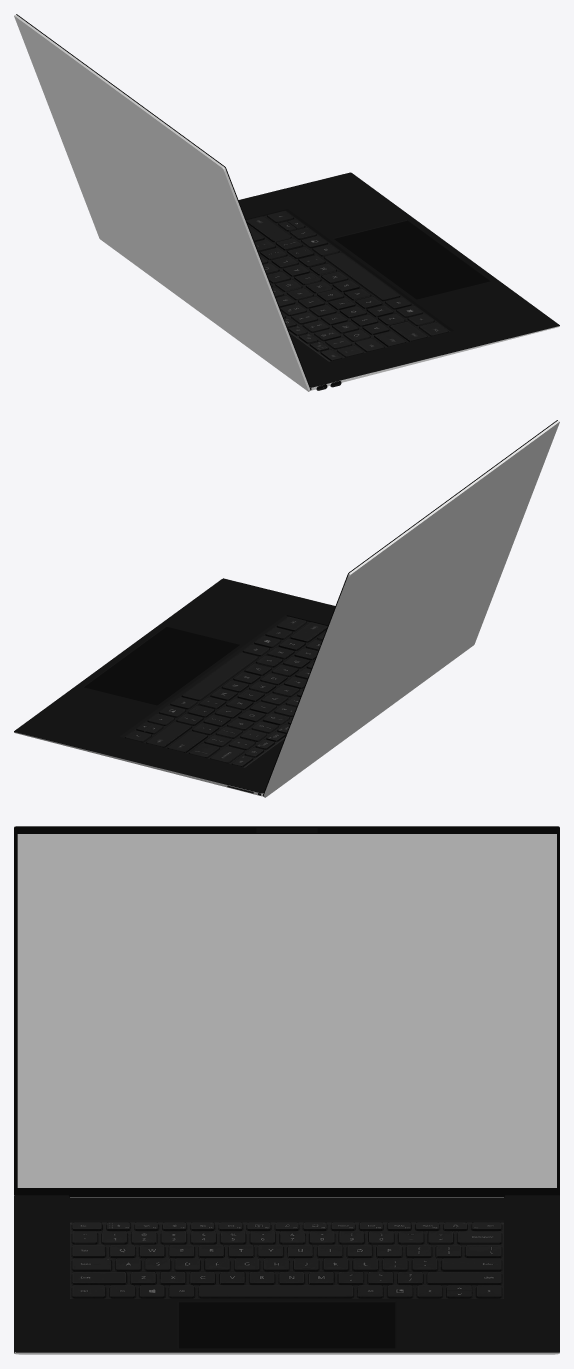
Rendered from thin_laptop.fbx.
The picture shows the model from 3 angles, top to bottom: view 1: azimuth 30°, elevation 25°; view 2: azimuth 150°, elevation 25°; view 3: azimuth 270°, elevation 25°; orthographic projection. The views are drawn at different scales.
Visible parts, largest first — view 1: Plane, Plane.001; view 2: Plane, Plane.001; view 3: Plane.001, Plane.
Boxes of the visible parts, bbox=[...] form: Plane: bbox=[238, 172, 559, 390]; Plane.001: bbox=[14, 14, 311, 391]; Plane: bbox=[14, 578, 335, 796]; Plane.001: bbox=[262, 420, 559, 797]; Plane.001: bbox=[14, 826, 559, 1197]; Plane: bbox=[14, 1195, 559, 1354].
Size of the model in its own units: 542 by 380 by 583.
